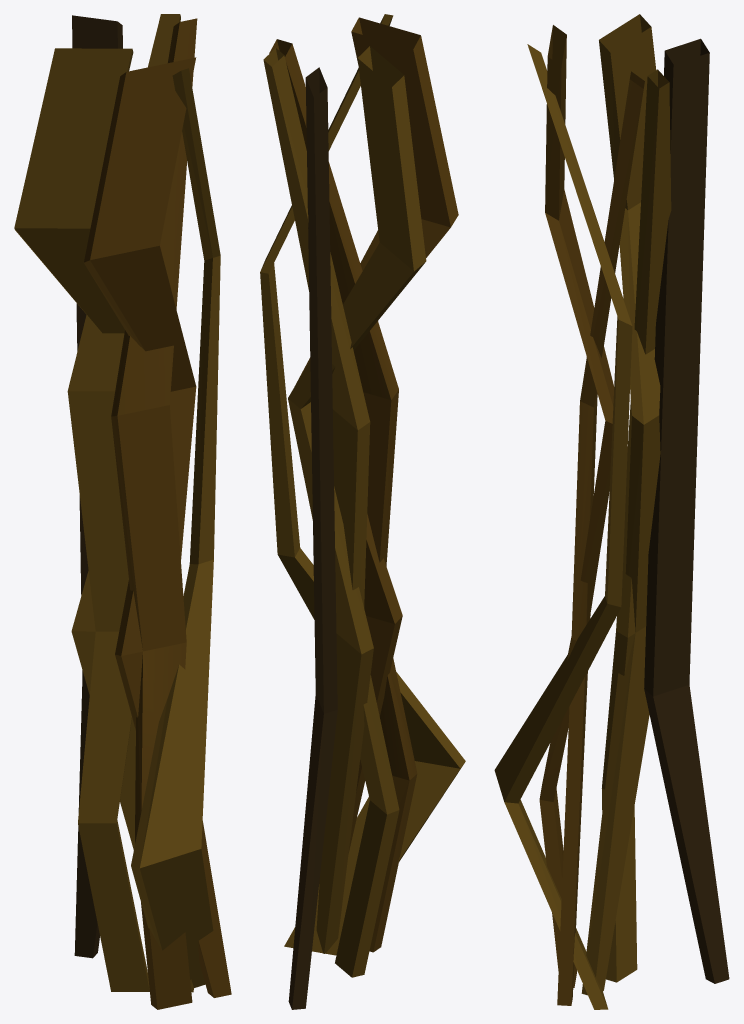
The model's file is einsteinClean1.glb.
3 views of the same model, side by side, from view 1: azimuth 30°, elevation 25°; view 2: azimuth 150°, elevation 25°; view 3: azimuth 270°, elevation 25° (orthographic). The views are drawn at different scales.
Visible parts, largest first — view 1: eintein_6.001, eintein_2.001, eintein_3.001, eintein_4.001; view 2: eintein_2.001, eintein_6.001, eintein_4.001, eintein_3.001; view 3: eintein_4.001, eintein_2.001, eintein_6.001, eintein_3.001.
Part boxes in pixels (x1,y1,x2,y2): eintein_6.001: (84, 18, 231, 1009); eintein_2.001: (14, 14, 193, 992); eintein_3.001: (131, 68, 220, 987); eintein_4.001: (72, 15, 122, 958); eintein_2.001: (263, 46, 426, 977); eintein_6.001: (269, 17, 458, 952); eintein_4.001: (288, 67, 337, 1009); eintein_3.001: (260, 14, 465, 955); eintein_4.001: (644, 38, 729, 983); eintein_2.001: (581, 14, 671, 995); eintein_6.001: (539, 25, 644, 1005); eintein_3.001: (494, 44, 632, 1009).
Bounding box in the file's own units: 1.87 × 9.15 × 2.08.
